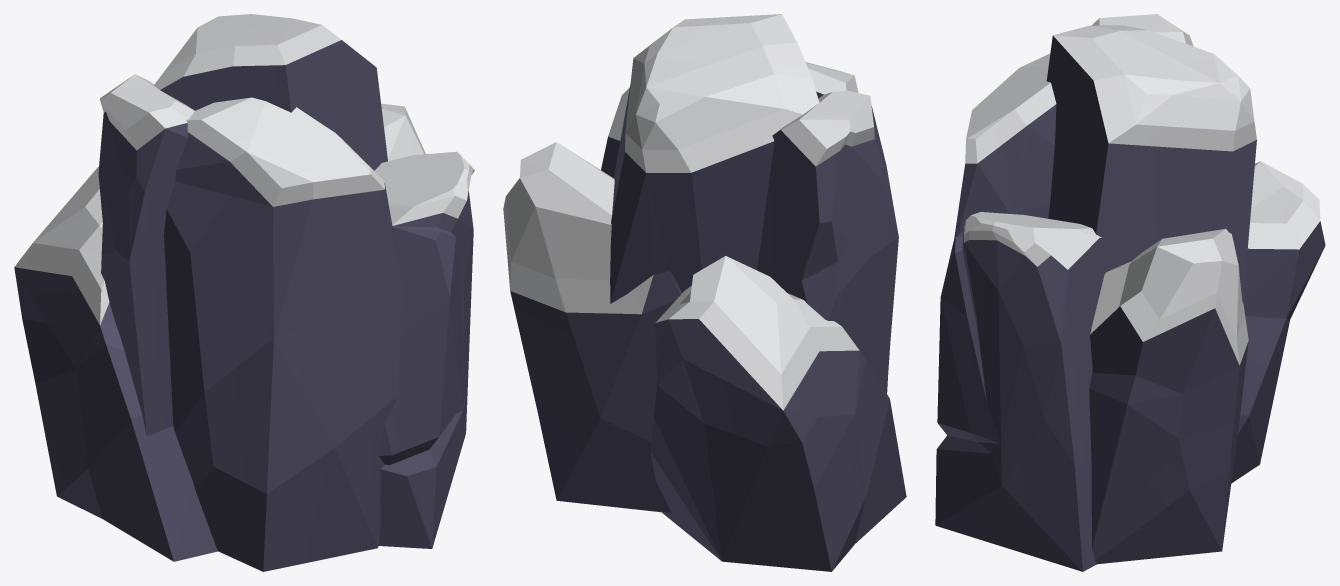
Rendered from Rock.fbx.
3 views of the same model, side by side, from view 1: azimuth 30°, elevation 25°; view 2: azimuth 150°, elevation 25°; view 3: azimuth 270°, elevation 25° (orthographic). The views are drawn at different scales.
Parts seen in each view (by area): view 1: Rocks.001; view 2: Rocks.001; view 3: Rocks.001.
Boxes of the visible parts, x1,y1,x2,y2 form: Rocks.001: (14, 14, 474, 571); Rocks.001: (503, 14, 906, 571); Rocks.001: (935, 14, 1325, 571).
Bounding box in the file's own units: 2095 × 2668 × 2080.
